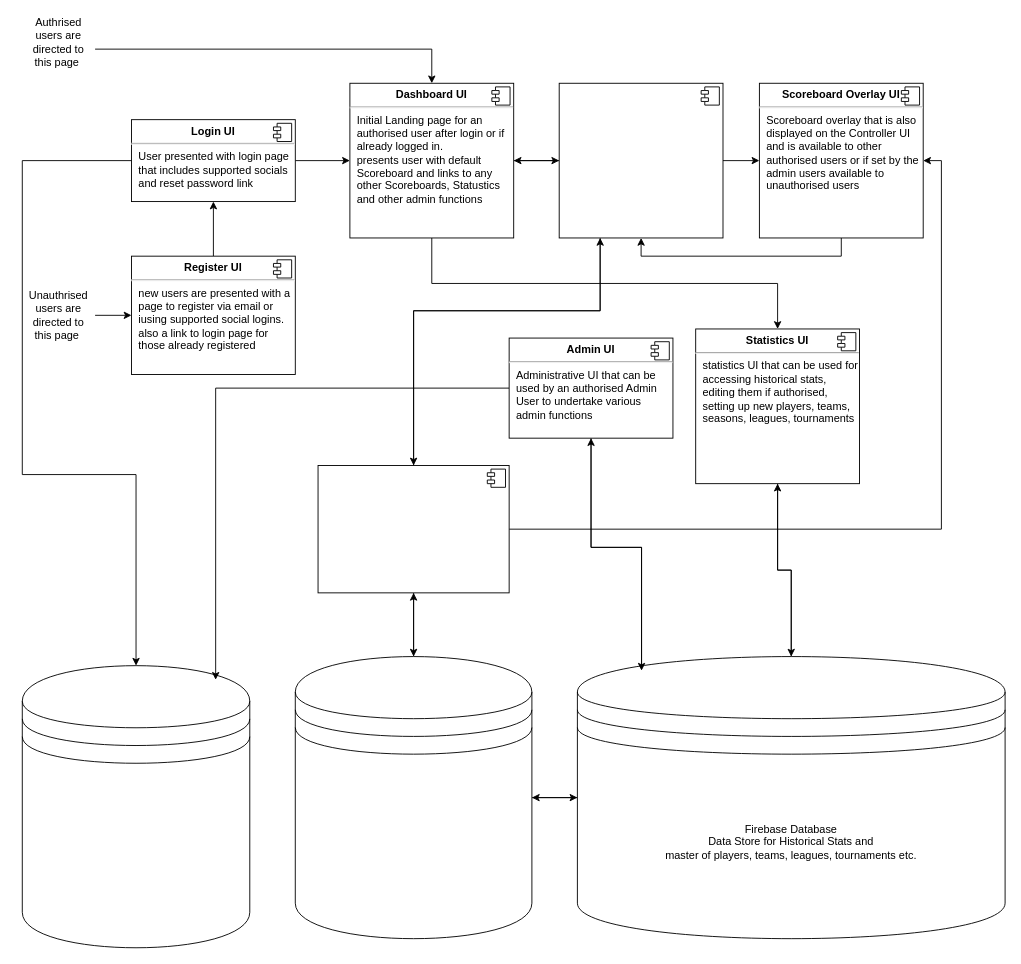
This 1021x964 diagram has some shape labels left out. Each missing label, with the centre of its shape:
"Controller UI Primary Ui usd by scorers to setup a game and score it" belongs at pixel 640 160.
"Firebase Authentication Service and User Store" belongs at pixel 135 806.
"Firebase RealTime Store for live Gameplay data" belongs at pixel 413 797.
"Game Play State & Logic Gameplay logic and state separated from Ui components" belongs at pixel 413 529.
